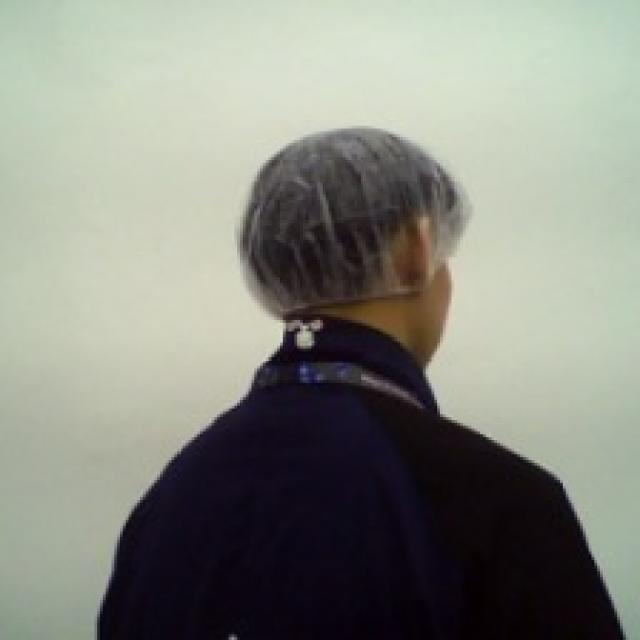gloves: (235, 116, 480, 326)
